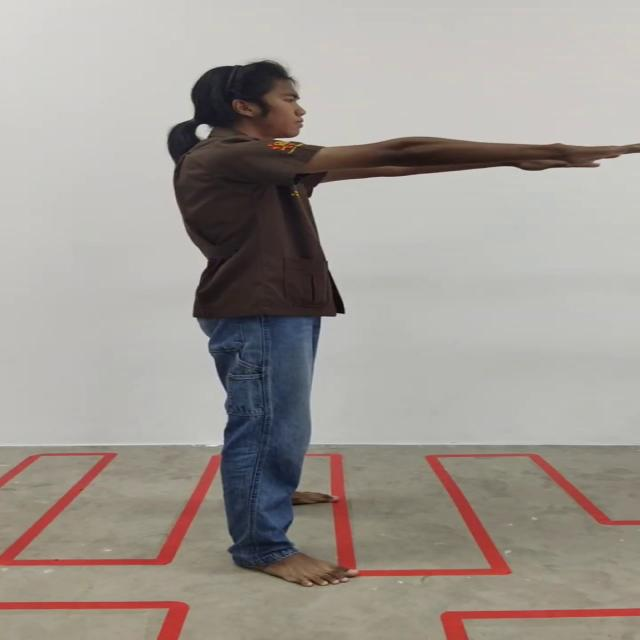stand: (168, 60, 640, 590)
